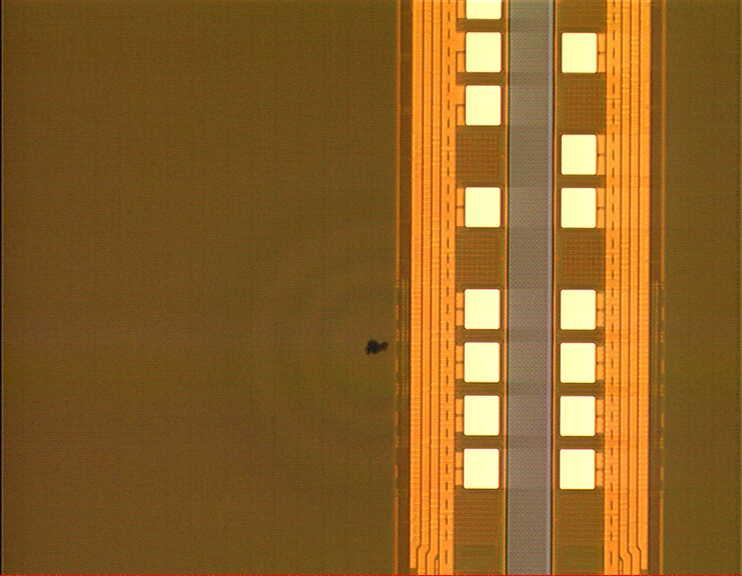PIQ PARTICLE: (363, 335, 391, 363)
